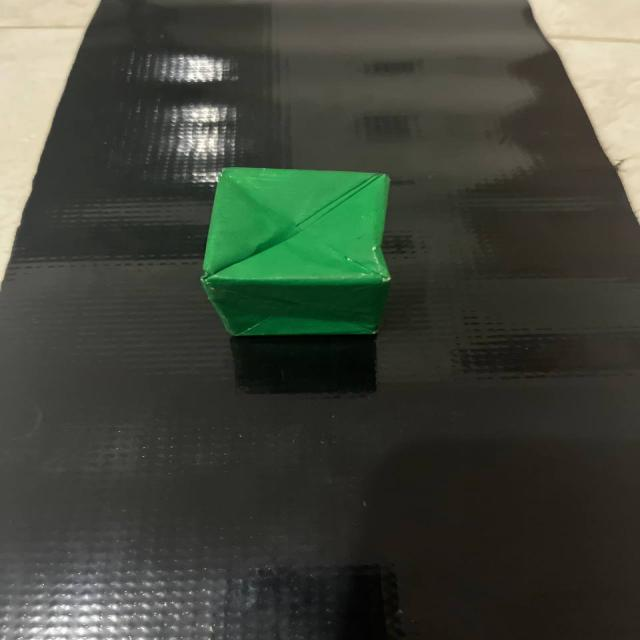Verde: (192, 151, 416, 356)
